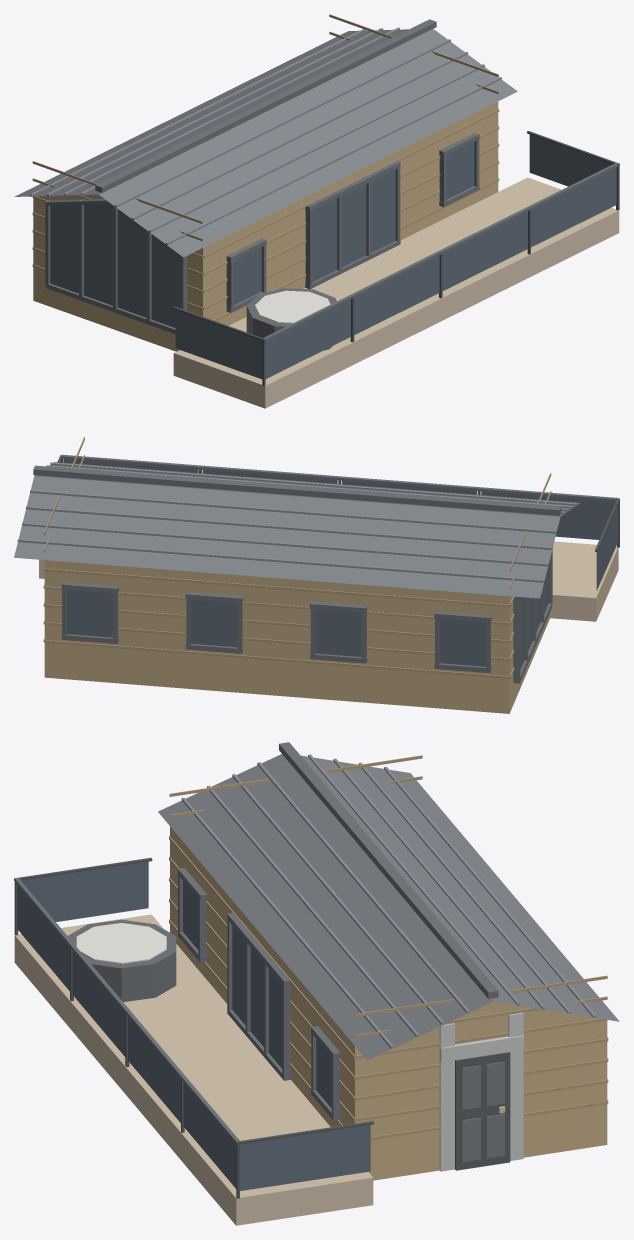
3 views of the same model, one above another, from view 1: azimuth 30°, elevation 25°; view 2: azimuth 150°, elevation 25°; view 3: azimuth 270°, elevation 25° (orthographic). The views are drawn at different scales.
Parts seen in each view (by area): view 1: slate, larch, door_wood, slate_dk, window_glass_012, slate_lt, door_wood_p, window_glass_005, window_glass_003, window_glass_002, window_glass_004, window_glass_001 (+9 smaller); view 2: slate, door_wood, slate_dk, slate_lt, door_wood_p, larch, window_glass_001, window_glass_015, window_glass_013, window_glass_014, window_glass_016, window_glass_012 (+5 smaller); view 3: slate, door_wood, larch, slate_dk, slate_lt, door_wood_p, window_glass_006, stone_band, window_glass_005, band_dark, door_dark_p, door_dark (+11 smaller).
Boxes of the visible parts, left/top/right/bottom form: slate: left=14, top=29, right=517, bottom=257; larch: left=173, top=177, right=619, bottom=408; door_wood: left=33, top=73, right=498, bottom=351; slate_dk: left=45, top=19, right=618, bottom=341; window_glass_012: left=50, top=203, right=180, bottom=327; slate_lt: left=30, top=27, right=501, bottom=244; door_wood_p: left=32, top=14, right=499, bottom=321; window_glass_005: left=175, top=310, right=262, bottom=379; window_glass_003: left=442, top=211, right=527, bottom=290; window_glass_002: left=354, top=255, right=439, bottom=334; window_glass_004: left=531, top=167, right=616, bottom=247; window_glass_001: left=265, top=299, right=350, bottom=378; slate: left=14, top=462, right=579, bottom=598; door_wood: left=44, top=560, right=550, bottom=713; slate_dk: left=33, top=454, right=618, bottom=683; slate_lt: left=17, top=462, right=576, bottom=582; door_wood_p: left=43, top=437, right=551, bottom=678; larch: left=39, top=541, right=618, bottom=621; window_glass_001: left=481, top=491, right=615, bottom=539; window_glass_015: left=315, top=609, right=361, bottom=656; window_glass_013: left=66, top=589, right=112, bottom=637; window_glass_014: left=191, top=599, right=237, bottom=647; window_glass_016: left=439, top=619, right=485, bottom=666; window_glass_012: left=520, top=566, right=548, bottom=669; slate: left=158, top=754, right=619, bottom=1060; door_wood: left=170, top=826, right=607, bottom=1180; larch: left=14, top=914, right=373, bottom=1225; slate_dk: left=14, top=742, right=498, bottom=1143; slate_lt: left=181, top=754, right=595, bottom=1048; door_wood_p: left=169, top=755, right=608, bottom=1140; window_glass_006: left=240, top=1125, right=370, bottom=1190; stone_band: left=439, top=1012, right=523, bottom=1171; window_glass_005: left=21, top=861, right=148, bottom=921; band_dark: left=68, top=919, right=176, bottom=1001; door_dark_p: left=461, top=1061, right=504, bottom=1161; door_dark: left=455, top=1052, right=510, bottom=1170.
Bounding box in the file's own units: 12.32 × 3.4 × 9.99.
